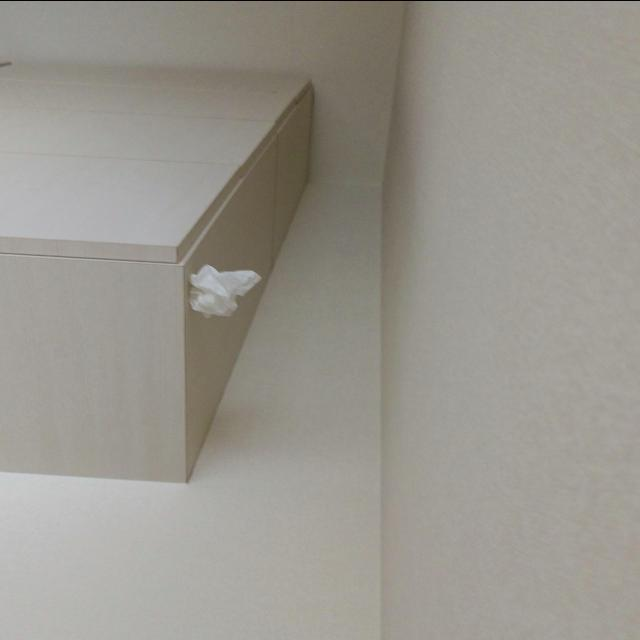Paper: (170, 237, 275, 342)
